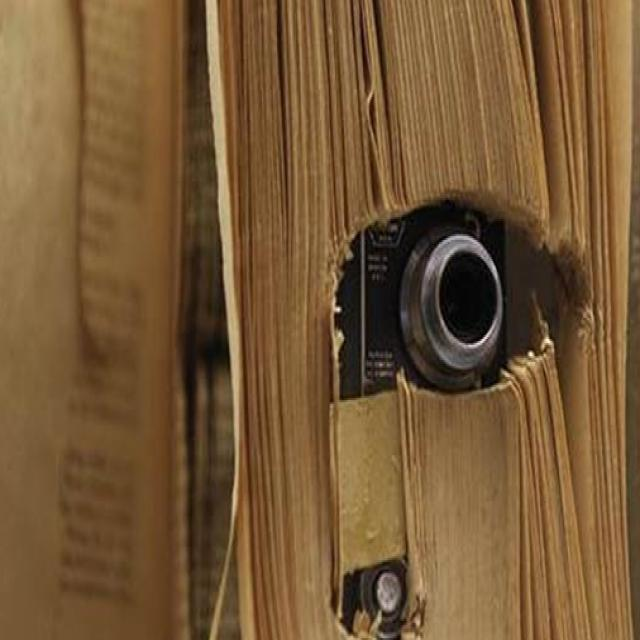hidden camera: (438, 250, 501, 353)
